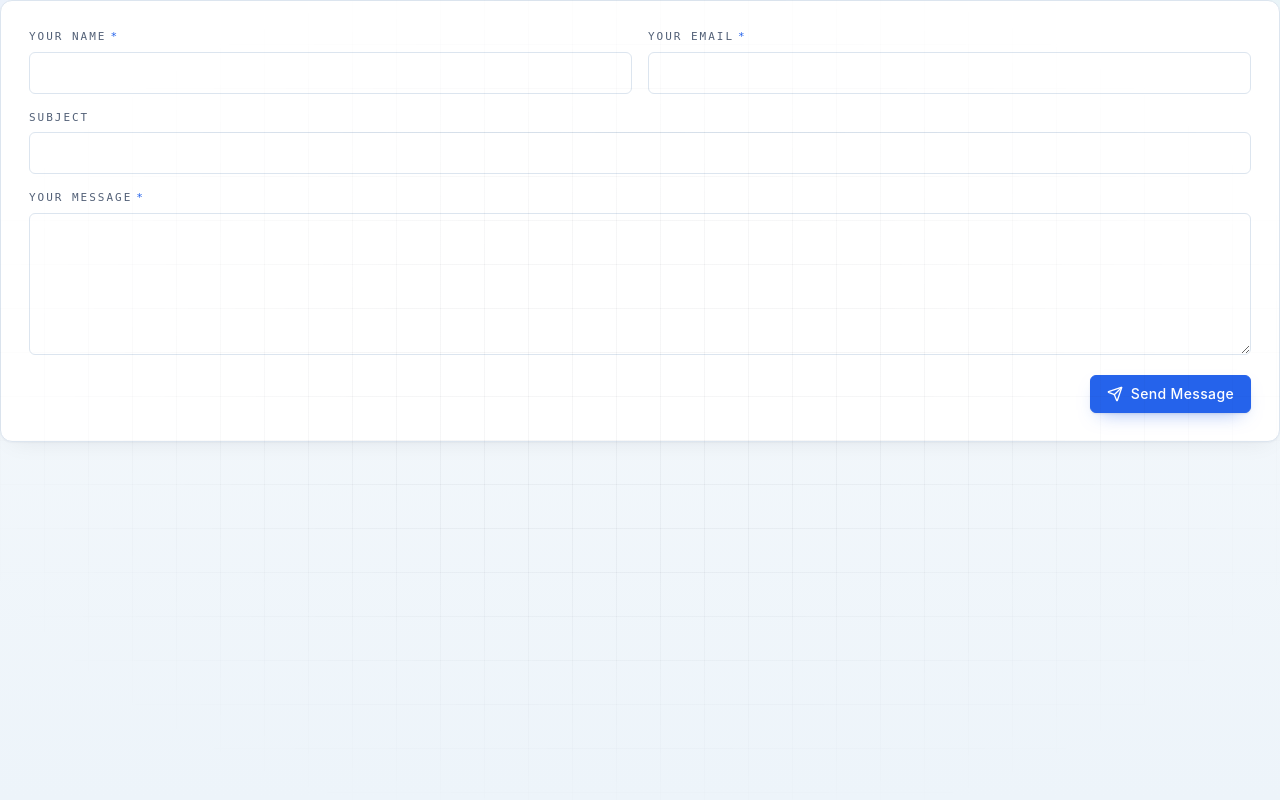
it: ContactForm fallback › shows validation errors before attempting to send
Click the button "Send Message". click: (1170, 394)
box: [1090,374,1251,412]
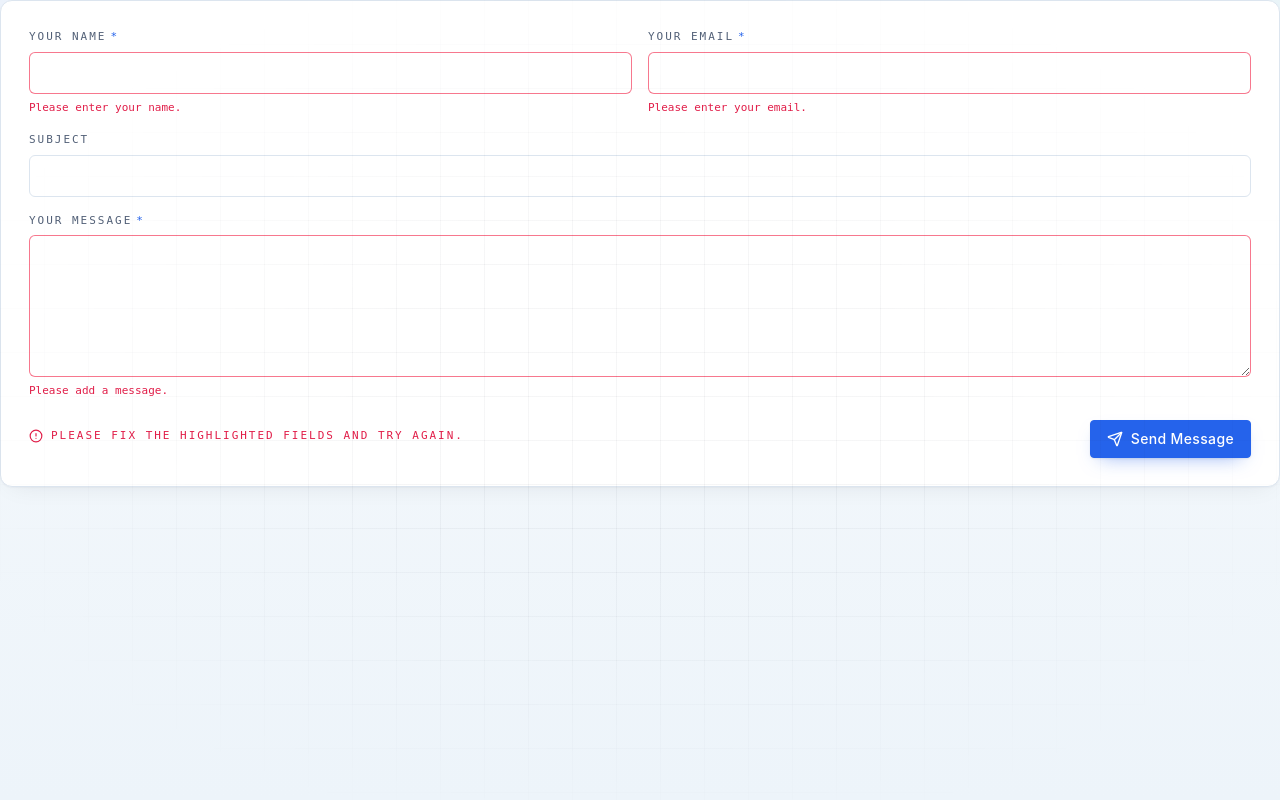
Expected: the text "Please fix the highlighted fields and try again." is shown, [29,428,464,445]
Expected: the text "Please enter your name." is shown, [29,100,181,114]
